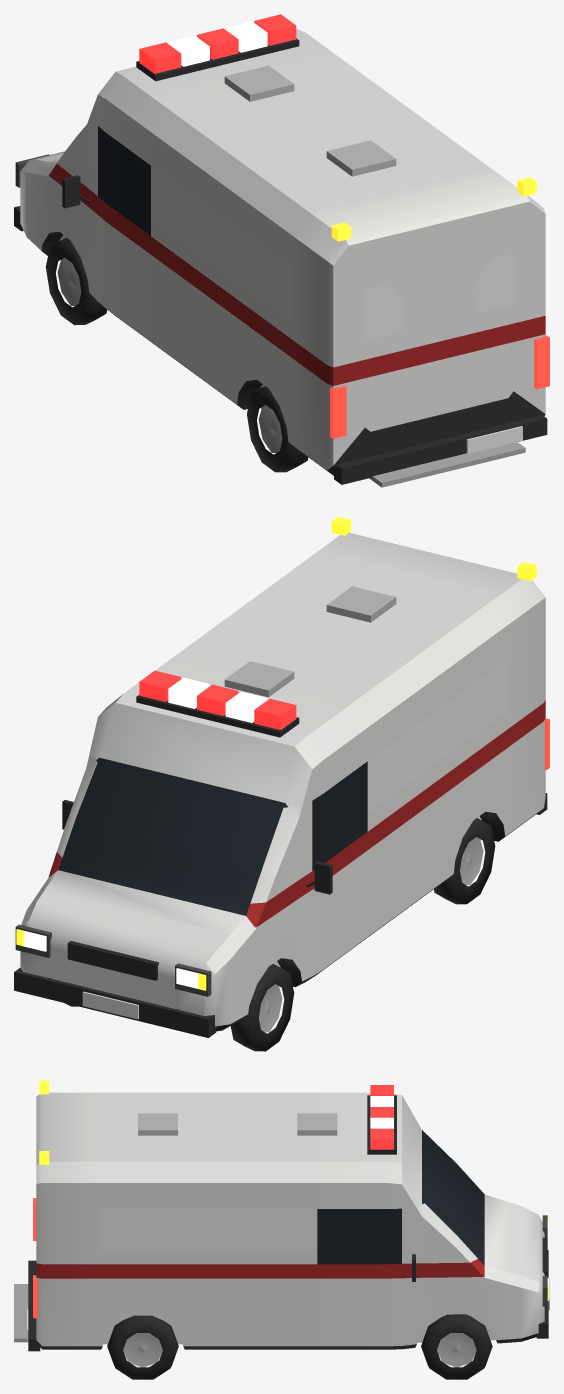
Rendered from ambulance_lod1.glb.
The picture shows the model from 3 angles, top to bottom: view 1: azimuth 30°, elevation 25°; view 2: azimuth 150°, elevation 25°; view 3: azimuth 270°, elevation 25°; orthographic projection. The views are drawn at different scales.
Visible parts, largest first — view 1: body, wheel_fl, wheel_rl; view 2: body, wheel_fl, wheel_rl; view 3: body, wheel_fr, wheel_rr.
Boxes of the visible parts, box(x1,y1,x2,y2) form: body: box(14, 14, 549, 487); wheel_fl: box(46, 237, 107, 325); wheel_rl: box(247, 386, 308, 472); body: box(14, 516, 549, 1037); wheel_fl: box(230, 964, 294, 1051); wheel_rl: box(434, 818, 495, 904); body: box(14, 1080, 549, 1351); wheel_fr: box(421, 1314, 492, 1379); wheel_rr: box(107, 1315, 178, 1379).
Size of the model in its own units: 2.42 by 2.55 by 5.38.
2 materials, 1 textured.
